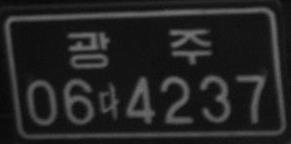0: (25, 77, 59, 127)
2: (159, 74, 195, 125)
3: (199, 73, 232, 125)
4: (124, 74, 157, 125)
6: (62, 76, 95, 126)
7: (234, 73, 268, 125)
광주_D: (65, 25, 214, 71)
다: (97, 81, 120, 121)
